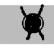not correct: (17, 4, 48, 43)
